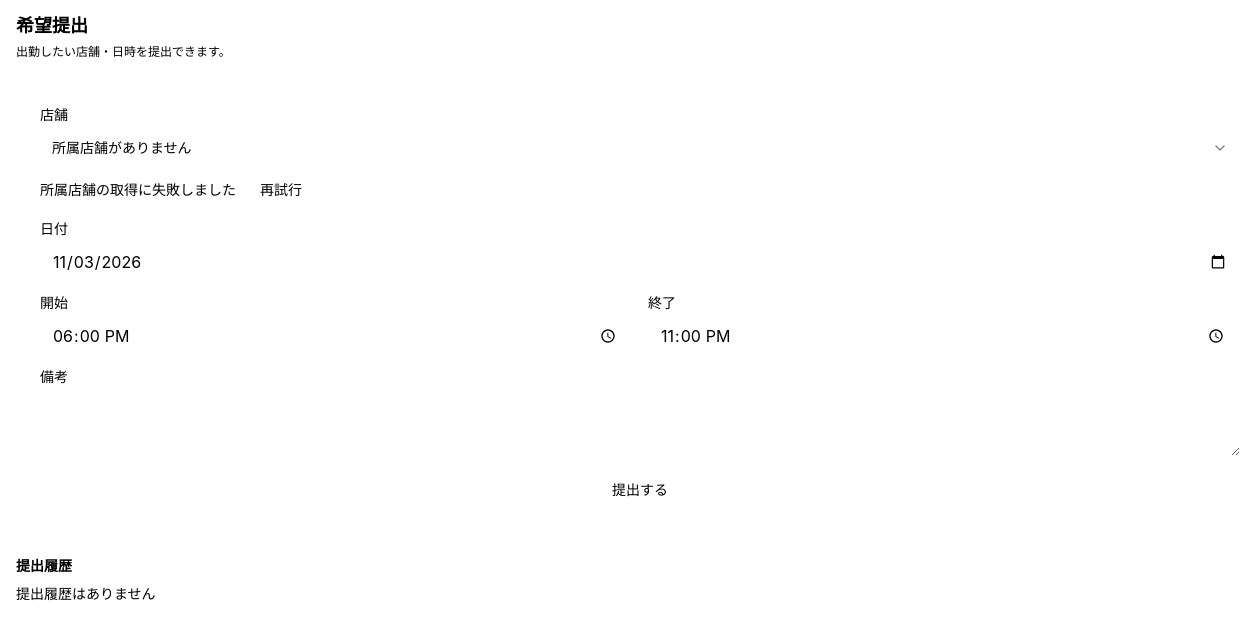
Test: CastRequestsPage › 所属店舗が取れなければ履歴ではなく店舗欄が失敗を名乗り、再試行できること
Expected: the text "所属店舗の取得に失敗しました" is shown, top-left (40, 180), bottom-right (236, 200)
Click the button "再試行". click: (281, 190)
box: top-left (248, 174), bottom-right (314, 206)
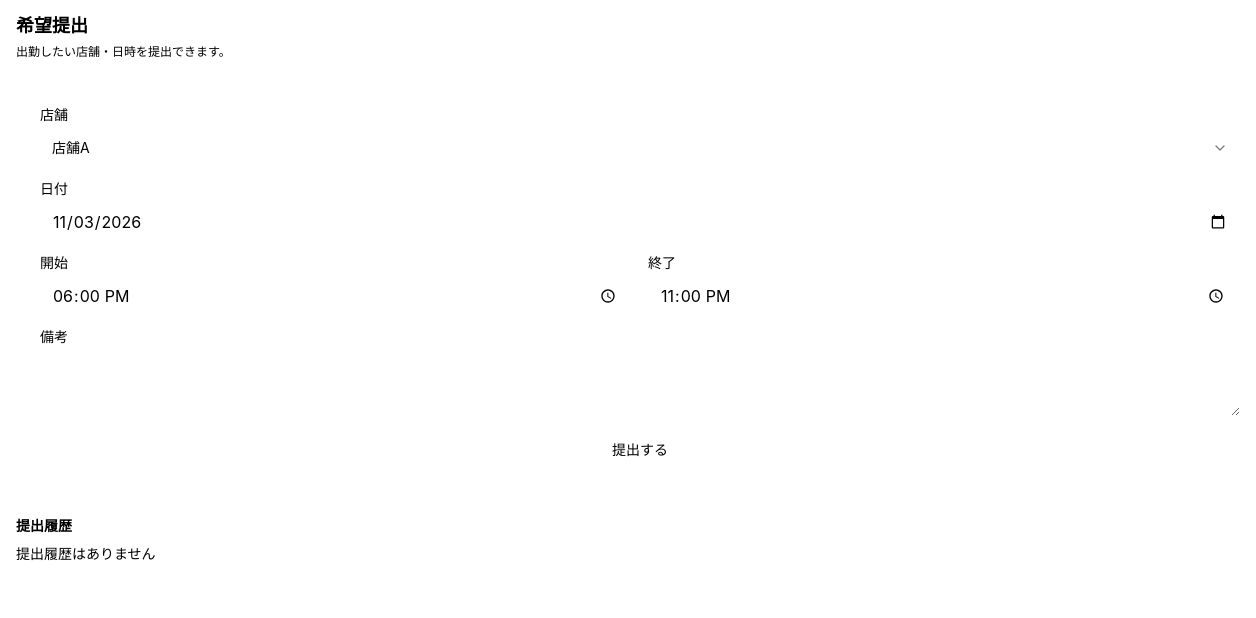
Expected: the message "所属店舗の取得に失敗しました 再試行" is gone
